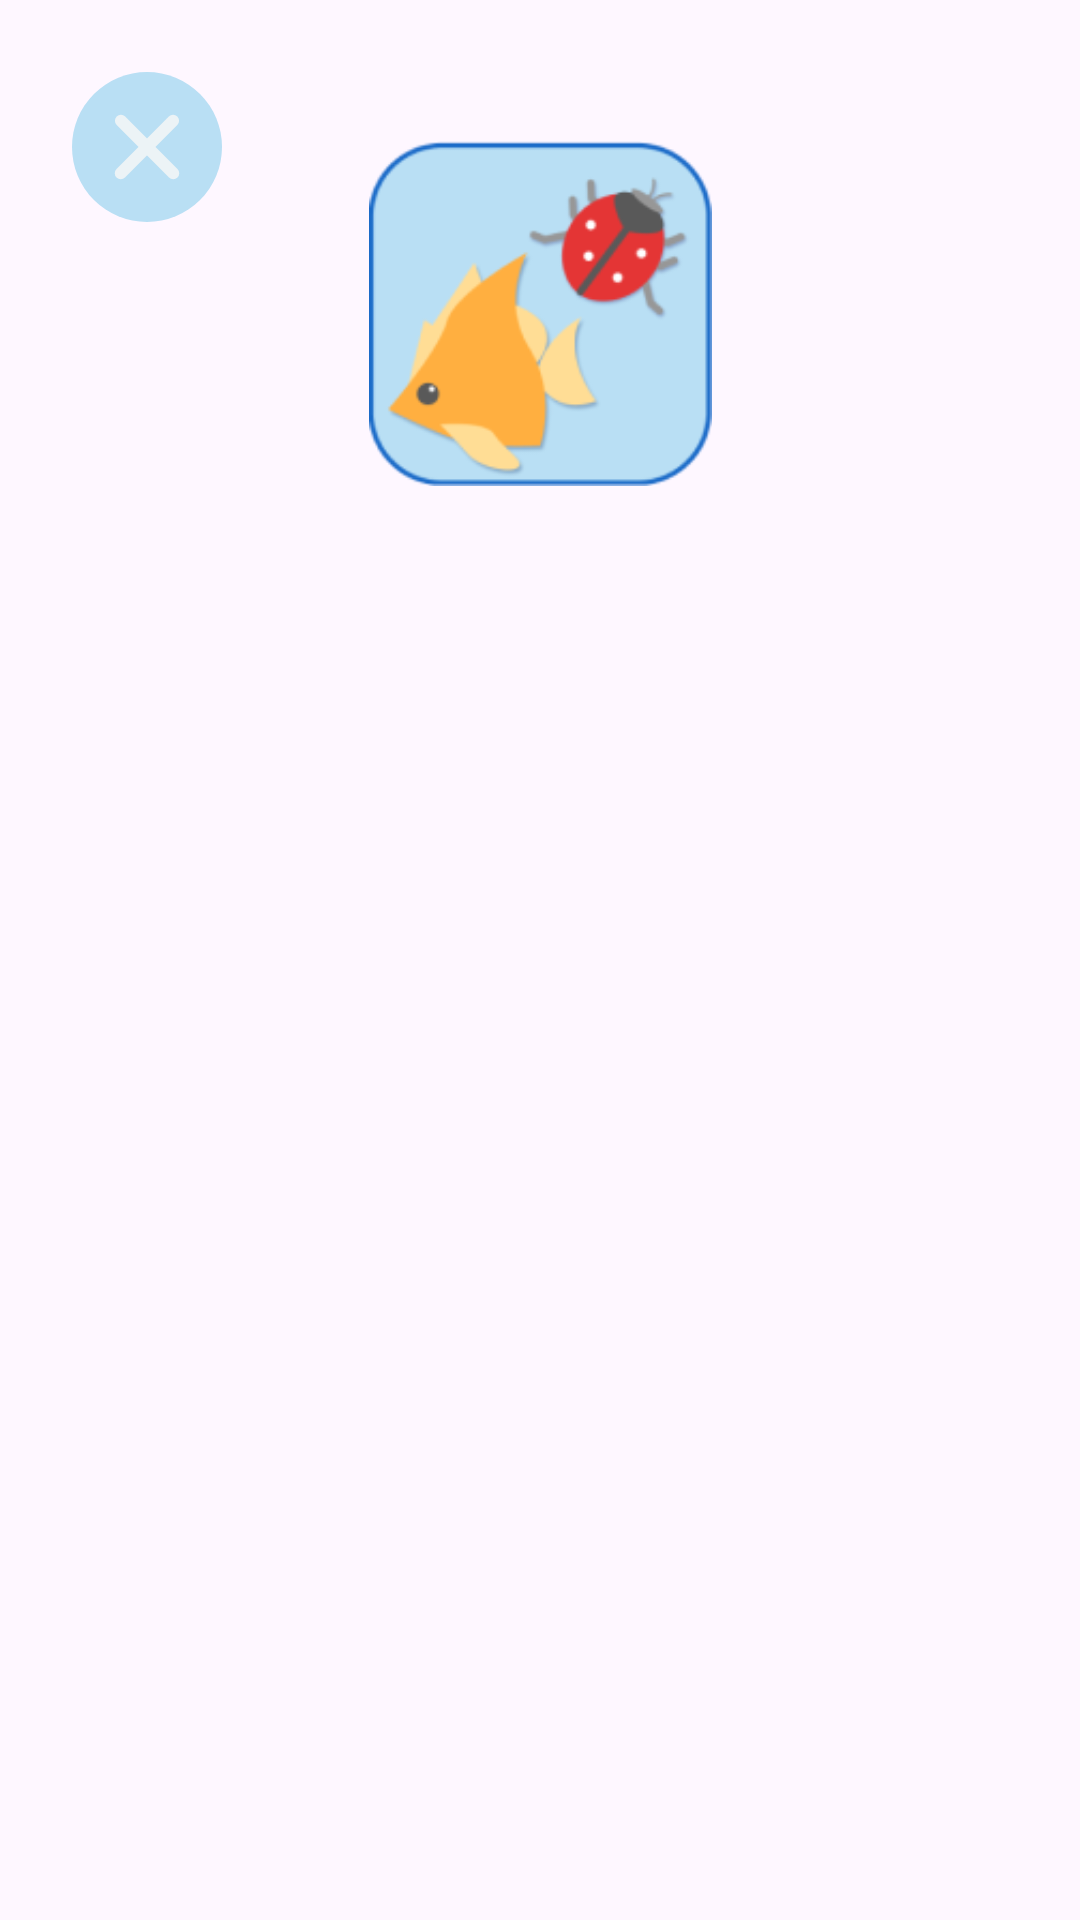

Named icons in this screenshot (1080px x 1920px) and their centers, (x=x, y=y):
animalgameexit: (x=147, y=147)
animalgameicon: (x=540, y=314)
